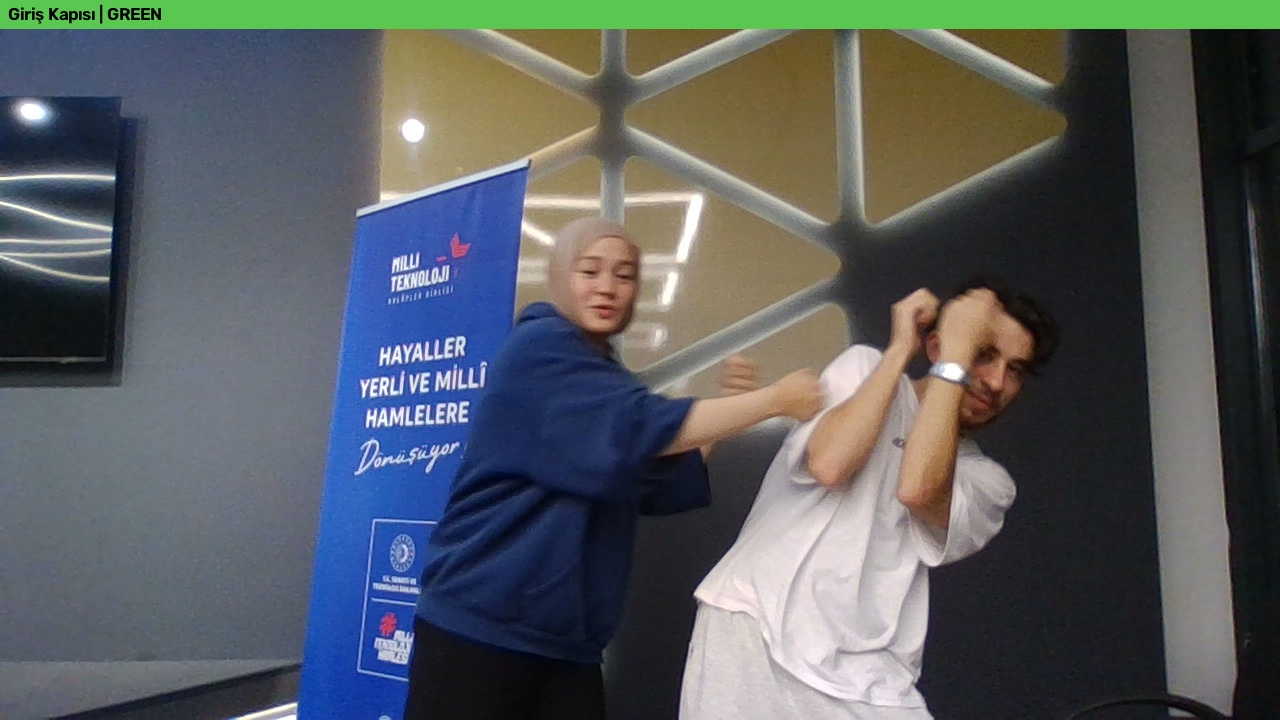weapon: (355, 341, 495, 485)
